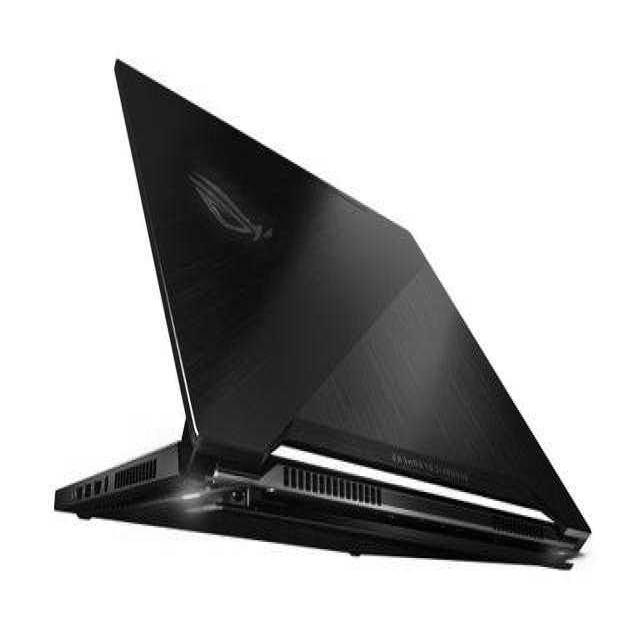laptop: (33, 54, 586, 580)
